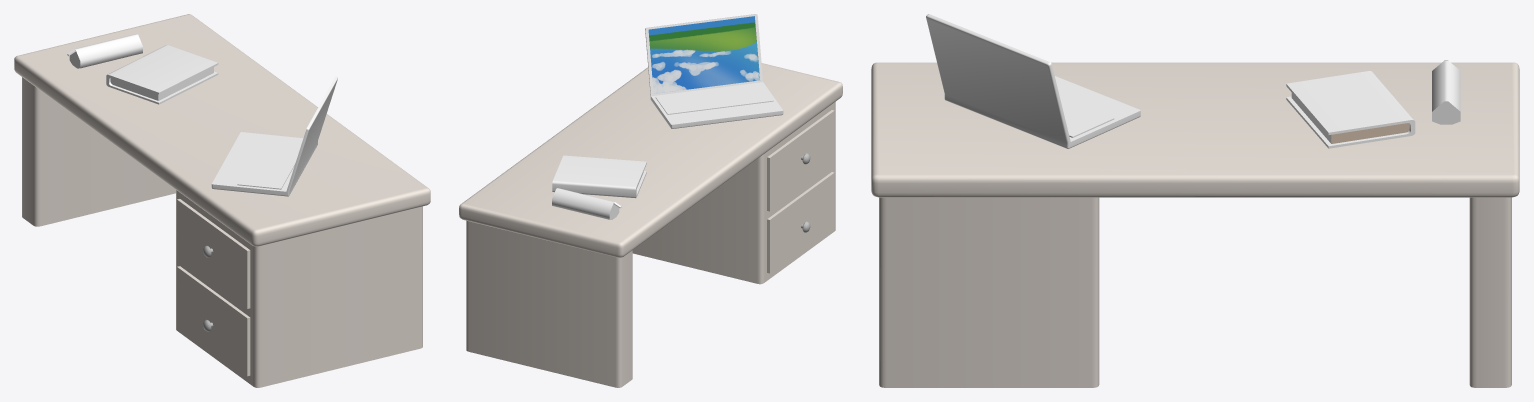
Rendered from 3D_Prop_Desk.fbx.
3 renders of one model, left to right at view 1: azimuth 30°, elevation 25°; view 2: azimuth 150°, elevation 25°; view 3: azimuth 270°, elevation 25°, orthographic. The views are drawn at different scales.
Parts seen in each view (by area): view 1: Desk; view 2: Desk; view 3: Desk.
Part boxes in pixels (box(x1,y1,x2,y2)): Desk: box(14, 14, 430, 387); Desk: box(459, 14, 842, 387); Desk: box(871, 14, 1519, 387).
Size of the model in its own units: 258 by 309 by 587.
